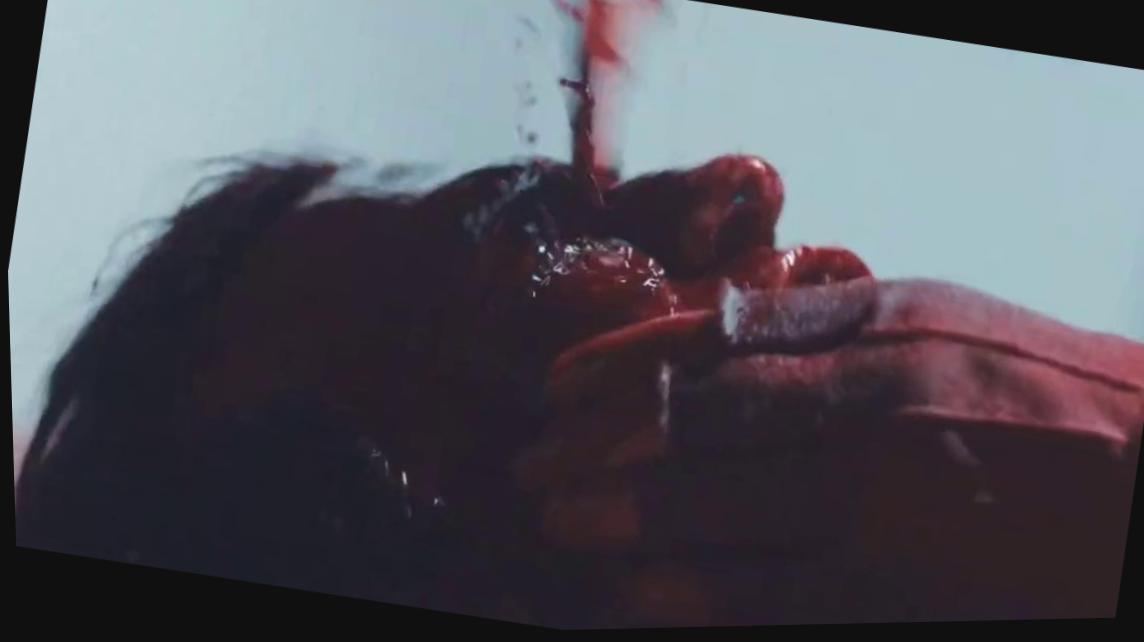Fire: (11, 0, 1144, 633)
